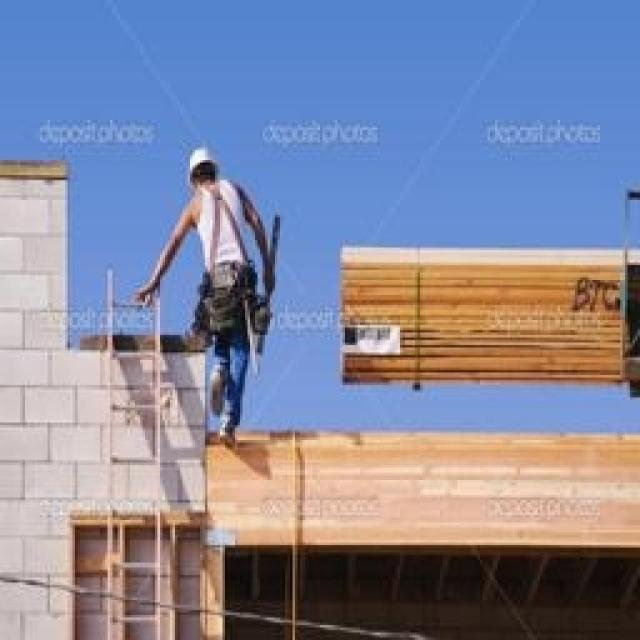Helmet: (166, 177, 268, 316), (170, 129, 242, 194)
